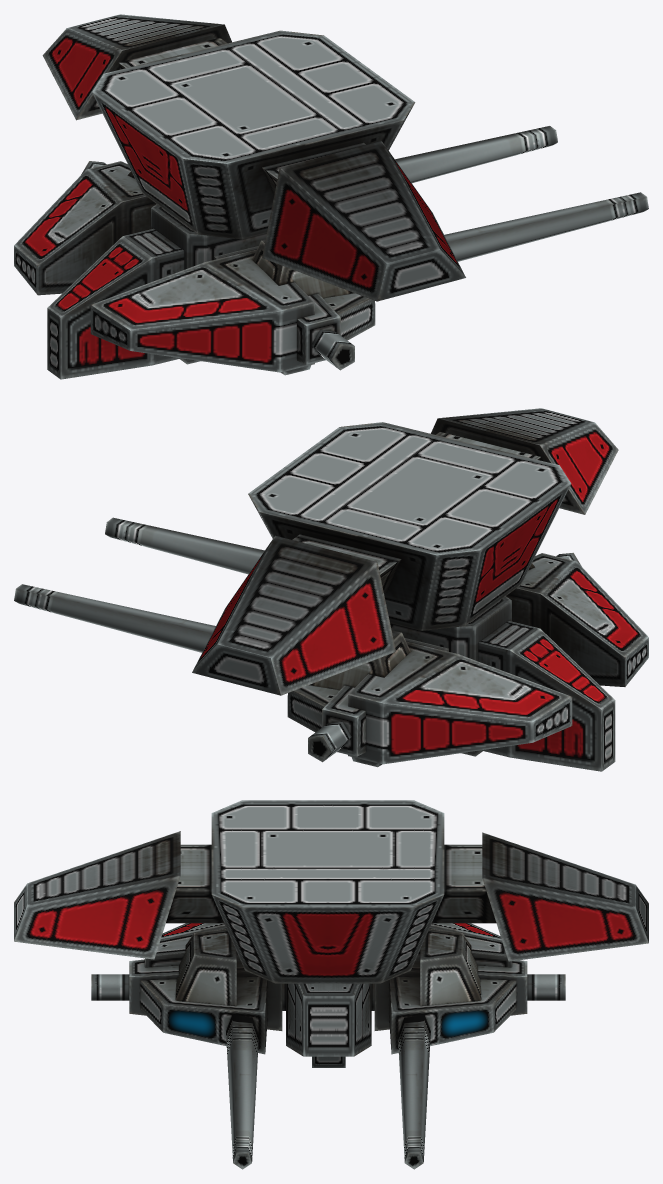
File: hover ship.fbx
3 renders of one model, top to bottom at view 1: azimuth 30°, elevation 25°; view 2: azimuth 150°, elevation 25°; view 3: azimuth 270°, elevation 25°, orthographic. The views are drawn at different scales.
Parts seen in each view (by area): view 1: sci_fi_turret_4; view 2: sci_fi_turret_4; view 3: sci_fi_turret_4.
Boxes of the visible parts, bbox=[...] form: sci_fi_turret_4: bbox=[14, 14, 648, 379]; sci_fi_turret_4: bbox=[14, 408, 648, 771]; sci_fi_turret_4: bbox=[14, 800, 648, 1169].
Bounding box in the file's own units: 21.07 × 9.02 × 22.54.
